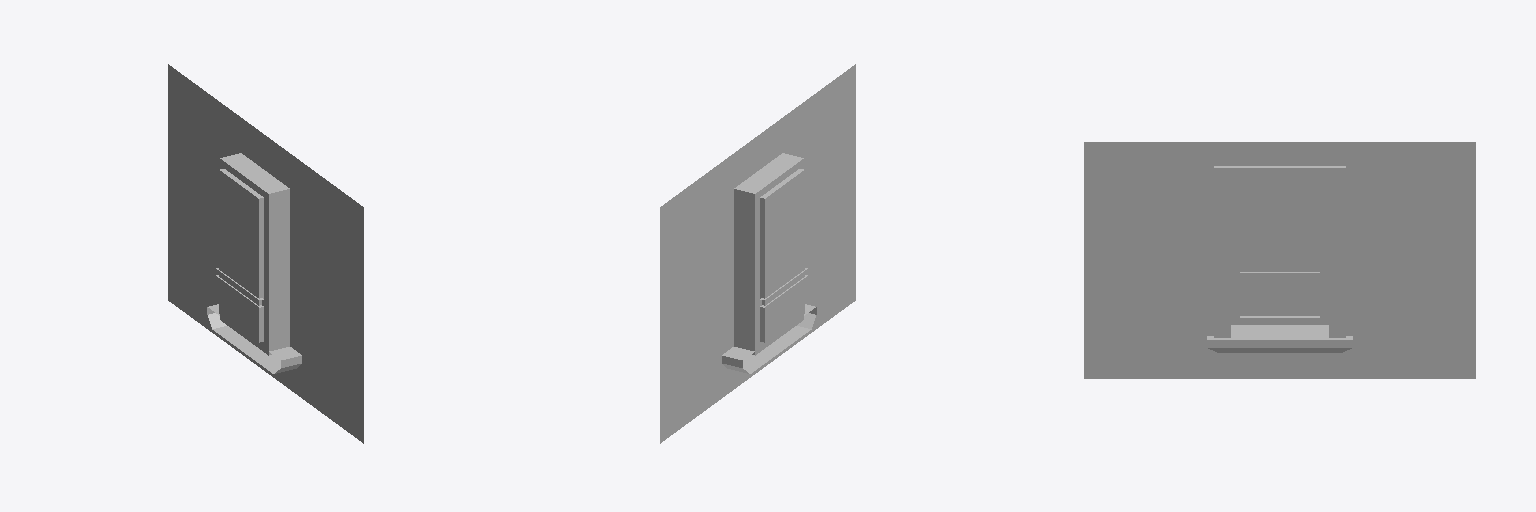
The model's file is NY_wallWindow2 2.obj.
3 renders of one model, left to right at view 1: azimuth 30°, elevation 25°; view 2: azimuth 150°, elevation 25°; view 3: azimuth 270°, elevation 25°, orthographic.
Visible parts, largest first — view 1: A_EXPO.obj.008; view 2: A_EXPO.obj.008; view 3: A_EXPO.obj.008.
Boxes of the visible parts, x1,y1,x2,y2 form: A_EXPO.obj.008: [168, 64, 363, 443]; A_EXPO.obj.008: [660, 64, 855, 443]; A_EXPO.obj.008: [1084, 142, 1475, 378].
Size of the model in its own units: 0.3232 by 2 by 3.